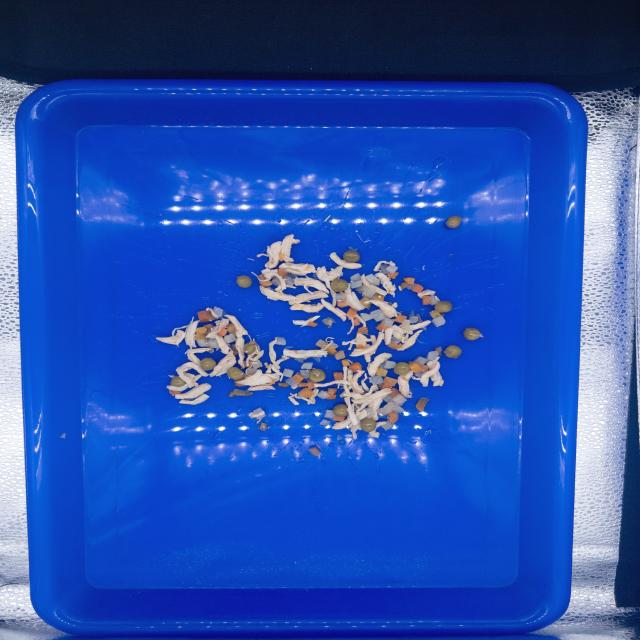Carrot: (407, 361, 428, 373), (378, 377, 397, 390), (197, 310, 215, 323), (416, 397, 430, 411), (229, 389, 253, 397), (399, 277, 415, 289), (298, 388, 314, 398), (388, 388, 404, 397), (360, 297, 371, 310), (388, 410, 399, 423), (324, 347, 339, 356), (277, 267, 288, 279), (349, 362, 362, 372), (203, 324, 214, 335), (292, 373, 304, 383), (346, 308, 358, 318), (375, 323, 388, 332), (394, 314, 407, 323), (411, 284, 424, 293), (429, 310, 442, 319), (309, 447, 320, 457), (374, 292, 385, 302), (234, 378, 247, 386), (335, 350, 345, 360), (333, 372, 344, 381), (195, 333, 209, 340), (376, 368, 388, 376), (387, 271, 399, 279), (387, 343, 402, 349), (228, 323, 236, 334), (422, 296, 431, 305), (218, 328, 228, 336), (196, 327, 207, 334), (337, 301, 348, 308), (169, 390, 181, 396), (333, 415, 345, 421), (306, 382, 316, 389), (327, 388, 337, 395), (278, 382, 289, 388), (232, 344, 238, 355), (307, 321, 318, 327), (258, 274, 269, 280), (353, 317, 360, 326), (260, 281, 272, 286), (358, 327, 368, 333), (342, 359, 350, 366), (260, 422, 267, 430), (355, 344, 366, 349), (243, 361, 252, 367), (298, 382, 308, 387), (327, 394, 336, 399), (278, 254, 285, 260), (269, 380, 275, 384)
Chicken_Shred: (349, 320, 431, 362), (264, 337, 334, 382), (332, 388, 393, 439), (251, 268, 329, 305), (316, 252, 362, 307), (314, 366, 379, 400), (166, 348, 211, 392), (397, 357, 444, 398), (156, 317, 200, 354), (257, 234, 300, 268), (224, 314, 249, 369), (290, 298, 346, 321), (205, 318, 233, 354), (235, 365, 280, 386), (360, 272, 396, 297), (208, 350, 236, 377), (340, 282, 366, 311), (367, 353, 392, 382), (363, 300, 398, 318), (175, 383, 212, 399), (347, 368, 369, 394), (342, 333, 372, 350), (279, 262, 316, 275), (289, 389, 319, 405), (246, 344, 264, 366), (347, 314, 366, 334), (179, 394, 209, 405), (292, 316, 320, 327), (369, 421, 386, 438), (247, 383, 276, 391), (374, 261, 395, 272), (417, 289, 436, 298), (249, 410, 265, 418), (205, 308, 218, 317), (291, 384, 298, 389), (435, 295, 440, 302), (257, 419, 262, 424), (248, 335, 252, 341), (378, 296, 382, 298)
Peas: (463, 328, 484, 340), (360, 418, 377, 432), (331, 279, 349, 292), (226, 367, 244, 380), (444, 345, 462, 358), (343, 250, 360, 263), (309, 369, 326, 382), (199, 358, 216, 371), (393, 362, 410, 375), (333, 404, 349, 417), (236, 275, 252, 288), (435, 301, 452, 313), (446, 216, 462, 228), (170, 376, 186, 387), (244, 343, 259, 354)
Potato_White: (376, 402, 399, 416), (196, 338, 219, 348), (247, 360, 262, 375), (391, 394, 407, 406), (370, 309, 386, 321), (379, 264, 398, 274), (359, 407, 373, 419), (362, 287, 376, 299), (432, 316, 446, 327), (412, 356, 429, 365), (424, 351, 439, 361), (381, 420, 394, 431), (213, 307, 224, 319), (285, 378, 299, 387), (360, 313, 374, 322), (365, 274, 379, 283), (316, 339, 328, 349), (370, 376, 383, 385), (381, 318, 394, 327), (322, 317, 335, 326), (224, 334, 236, 343), (282, 368, 294, 377), (317, 390, 329, 399), (324, 409, 336, 418), (384, 360, 396, 369), (350, 280, 362, 289), (301, 362, 314, 370), (355, 285, 368, 293), (284, 276, 294, 286), (401, 319, 410, 330), (405, 283, 418, 290), (336, 293, 346, 302), (271, 277, 281, 286), (275, 337, 286, 345), (320, 419, 331, 427), (383, 395, 394, 403), (350, 273, 361, 281), (393, 406, 405, 413), (327, 342, 339, 349), (254, 413, 267, 419), (300, 370, 311, 377), (430, 296, 438, 305), (253, 407, 263, 414), (435, 346, 442, 356), (414, 371, 425, 377), (391, 337, 400, 344), (409, 316, 418, 323), (371, 280, 380, 285), (207, 347, 214, 353), (249, 340, 255, 344), (266, 365, 270, 369)
